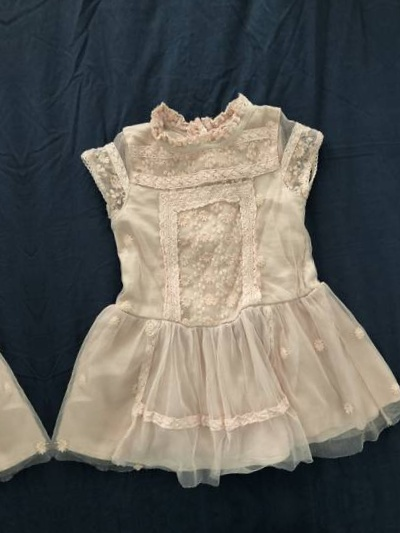Dress: (17, 71, 400, 507), (0, 110, 57, 533), (64, 518, 400, 533)
